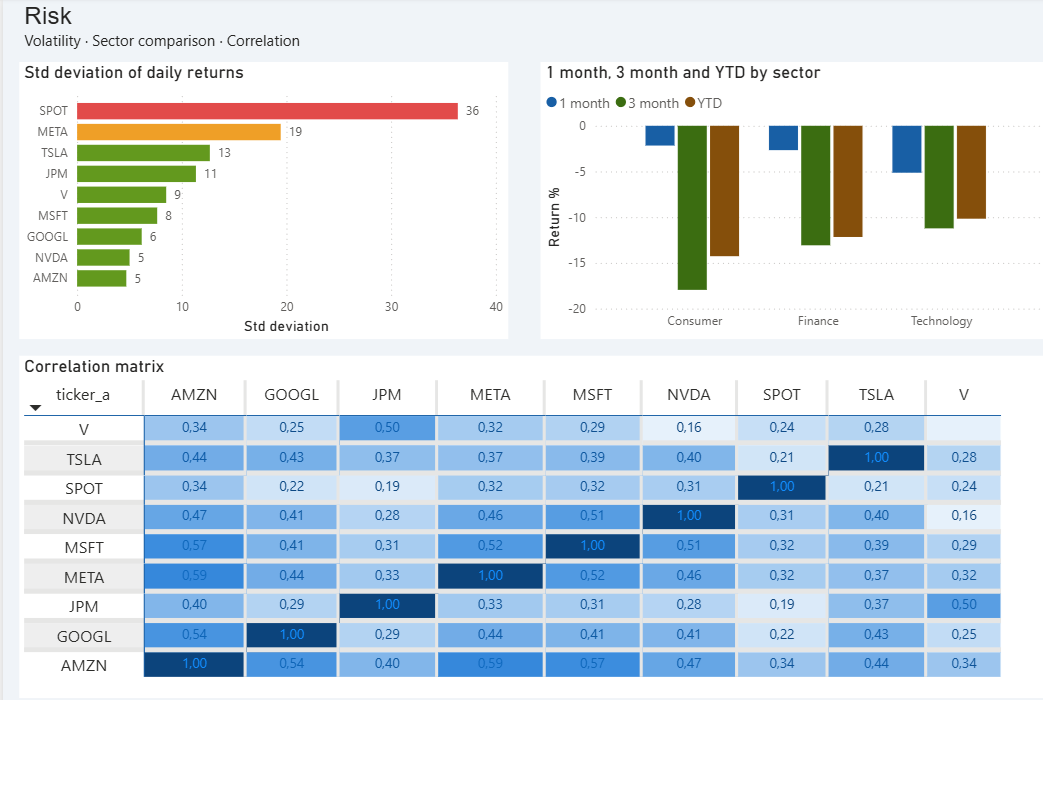

What the dashboard file says about the page in this screenshot:
{"tool":"powerbi","page":{"name":"Risk","canvas":[1280,720],"ordinal":2},"visuals":[{"type":"textbox","box":[16,0,304,64],"z":0},{"type":"clusteredBarChart","title":"Std deviation of daily returns","fields":{"Category":["public gold_volatility.ticker"],"Y":["_Measures.Dyn Volatility"]},"box":[16,64,480,272],"z":1000},{"type":"clusteredColumnChart","fields":{"Y":["Avg(public gold_performance_summary.one_month_return_pct)","Avg(public gold_performance_summary.three_month_return_pct)","Avg(public gold_performance_summary.ytd_return_pct)"],"Category":["public gold_performance_summary.sector"]},"box":[528,64,496,272],"z":2000},{"type":"pivotTable","title":"Correlation matrix","fields":{"Rows":["public gold_correlation_full.ticker_a"],"Columns":["public gold_correlation_full.ticker_b"],"Values":["Avg(public gold_correlation_full.correlation)"]},"box":[16,352,1008,336],"z":3000}]}

Visuals, with their boxes on the page's 1280x720 design canvas (x1, y1, x2, y2). These are canvas units, not pixel positions in the 1043x794 screenshot, which may show the page scaled, cropped or inside an application window:
textbox: (16, 0, 320, 64)
"Std deviation of daily returns" clusteredBarChart: (16, 64, 496, 336)
clusteredColumnChart - Avg(public gold_performance_summary.one_month_return_pct) x Avg(public gold_performance_summary.three_month_return_pct): (528, 64, 1024, 336)
"Correlation matrix" pivotTable: (16, 352, 1024, 688)
